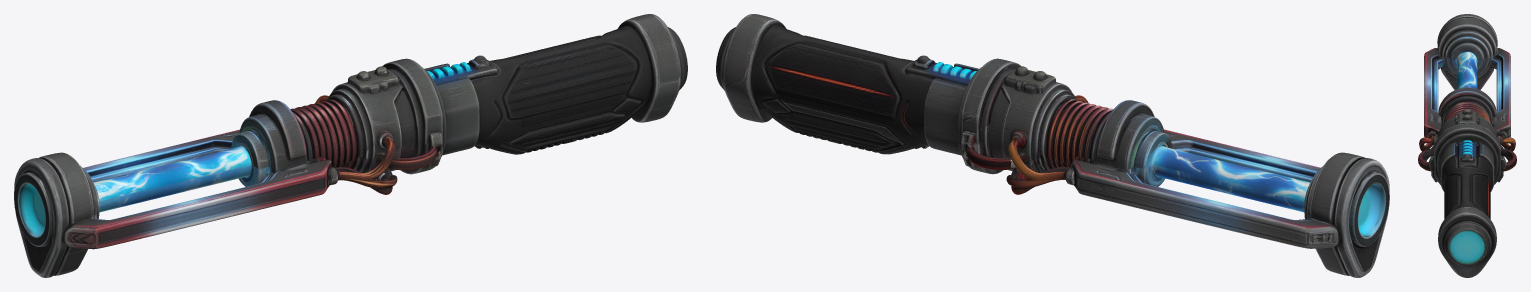
Rendered from Meshy_AI_Stun_Baton_Model_0217091733_texture.fbx.
The picture shows the model from 3 angles, left to right: view 1: azimuth 30°, elevation 25°; view 2: azimuth 150°, elevation 25°; view 3: azimuth 270°, elevation 25°; orthographic projection. The views are drawn at different scales.
Visible parts, largest first — view 1: Mesh_0; view 2: Mesh_0; view 3: Mesh_0.
Part boxes in pixels (x1=…): Mesh_0: x1=14, y1=14, x2=687, y2=277; Mesh_0: x1=716, y1=14, x2=1389, y2=277; Mesh_0: x1=1418, y1=14, x2=1516, y2=277.
Size of the model in its own units: 190 by 35.53 by 38.94.
1 material, 1 textured.
